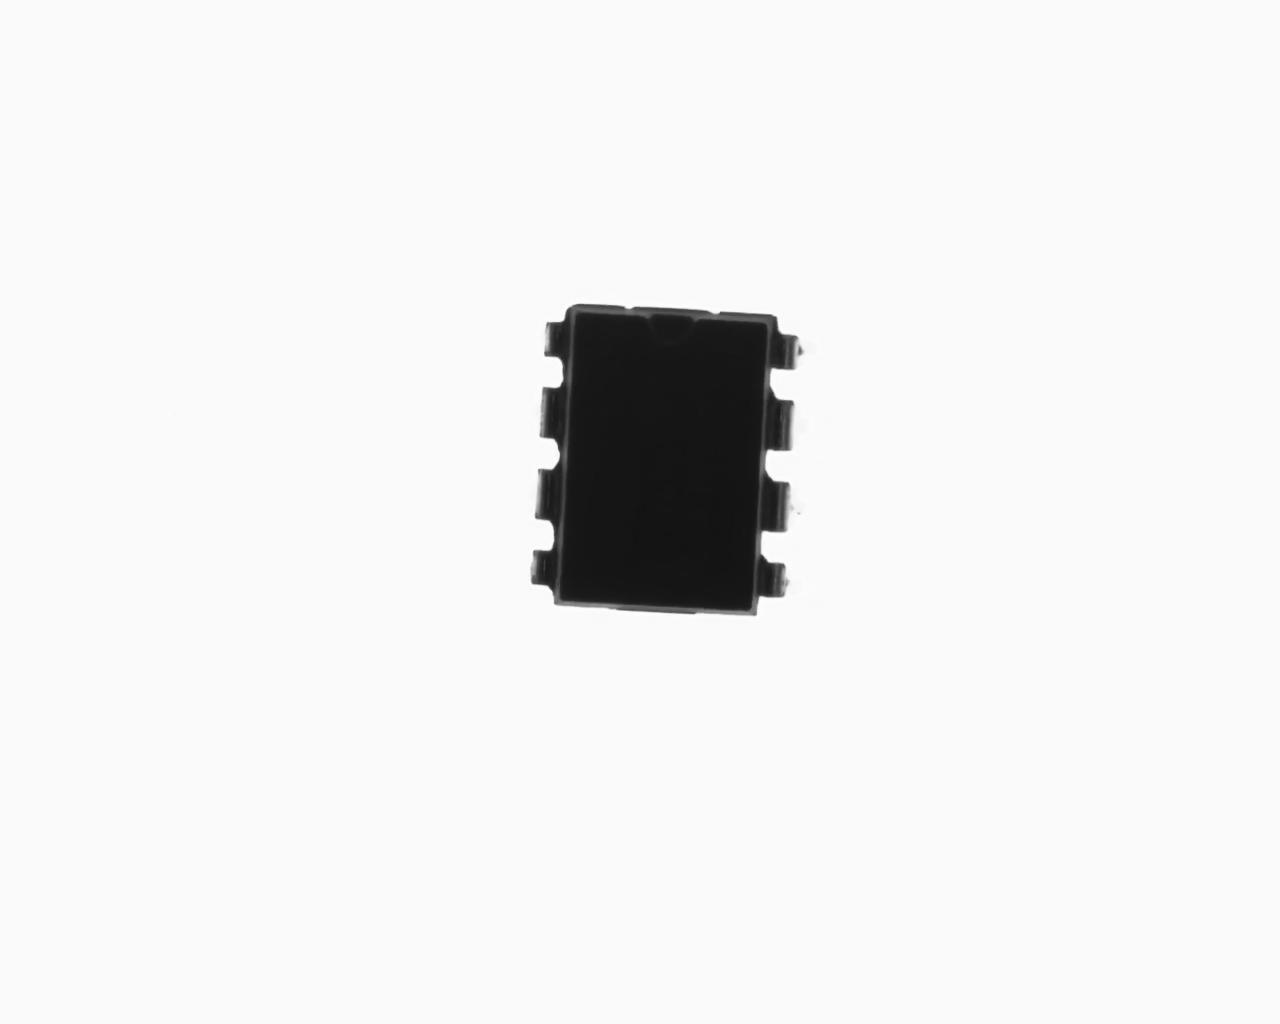Leg: (767, 469, 810, 544), (767, 387, 811, 457), (772, 317, 818, 376), (760, 553, 804, 611), (535, 379, 569, 448), (530, 463, 563, 526), (538, 317, 569, 367), (529, 544, 556, 596)
